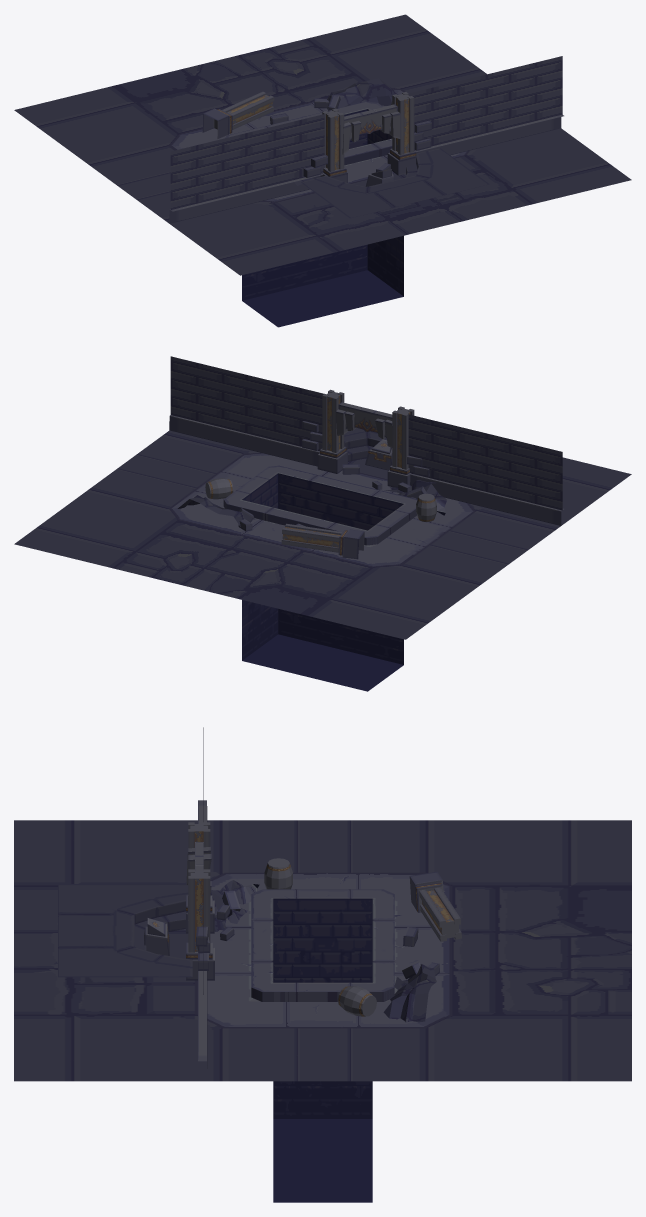
Rendered from SilverRuin_Scene.fbx.
3 views of the same model, one above another, from view 1: azimuth 30°, elevation 25°; view 2: azimuth 150°, elevation 25°; view 3: azimuth 270°, elevation 25° (orthographic). The views are drawn at different scales.
Visible parts, largest first — view 1: SilverRuin_Scene; view 2: SilverRuin_Scene; view 3: SilverRuin_Scene.
Boxes of the visible parts, x1=… form: SilverRuin_Scene: x1=14, y1=14, x2=631, y2=327; SilverRuin_Scene: x1=14, y1=356, x2=631, y2=691; SilverRuin_Scene: x1=14, y1=727, x2=631, y2=1202.
Size of the model in its own units: 2800 by 1552 by 2800.
